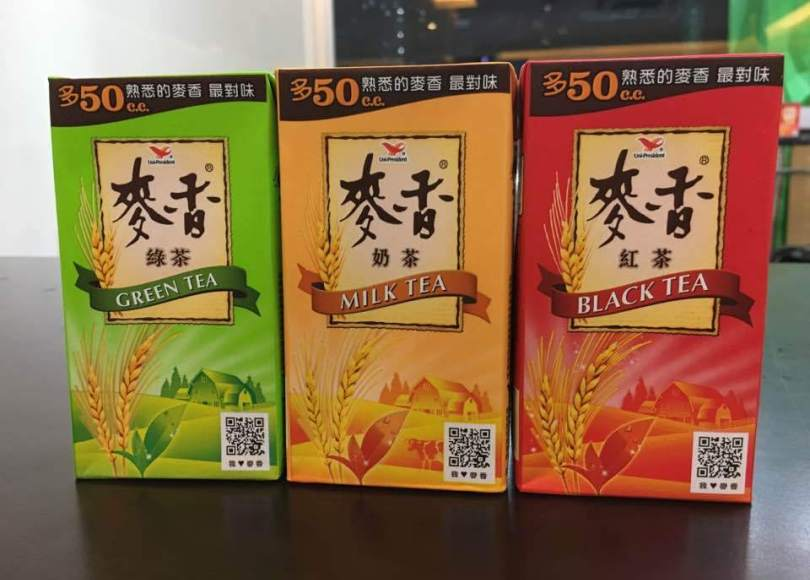milk tea: (273, 63, 513, 504)
